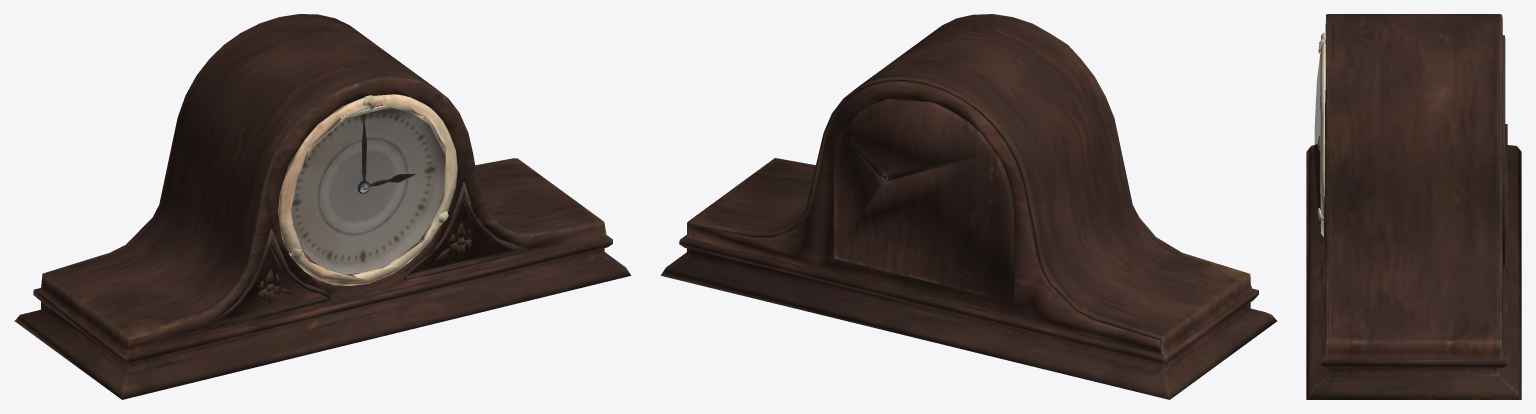
Rendered from mantel_clock_01.glb.
3 renders of one model, left to right at view 1: azimuth 30°, elevation 25°; view 2: azimuth 150°, elevation 25°; view 3: azimuth 270°, elevation 25°, orthographic.
Visible parts, largest first — view 1: mantel_clock_01, mantel_clock_01_glass; view 2: mantel_clock_01; view 3: mantel_clock_01, mantel_clock_01_glass.
Boxes of the visible parts, x1,y1,x2,y2 form: mantel_clock_01: (14, 14, 630, 399); mantel_clock_01_glass: (291, 106, 445, 276); mantel_clock_01: (661, 14, 1277, 399); mantel_clock_01: (1306, 14, 1521, 399); mantel_clock_01_glass: (1314, 55, 1320, 222).
Bounding box in the file's own units: 0.3418 × 0.1604 × 0.1252.
Materials: 2 (2 with a texture image).
